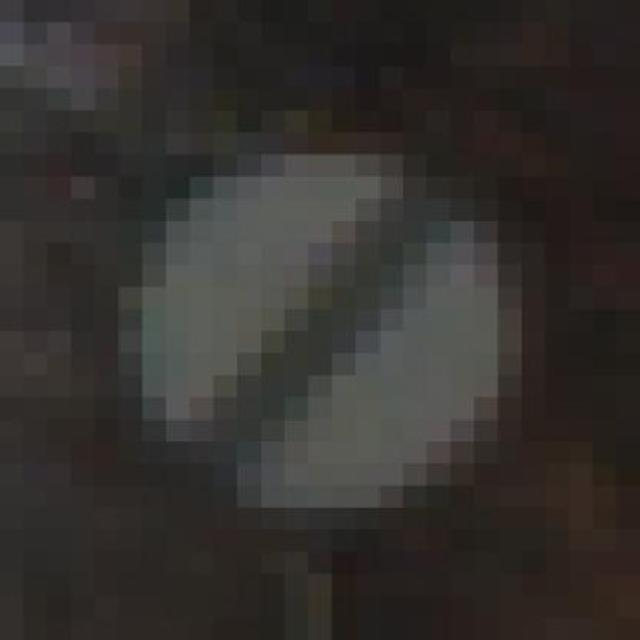End of all speed and passing limits: (71, 88, 569, 530)
